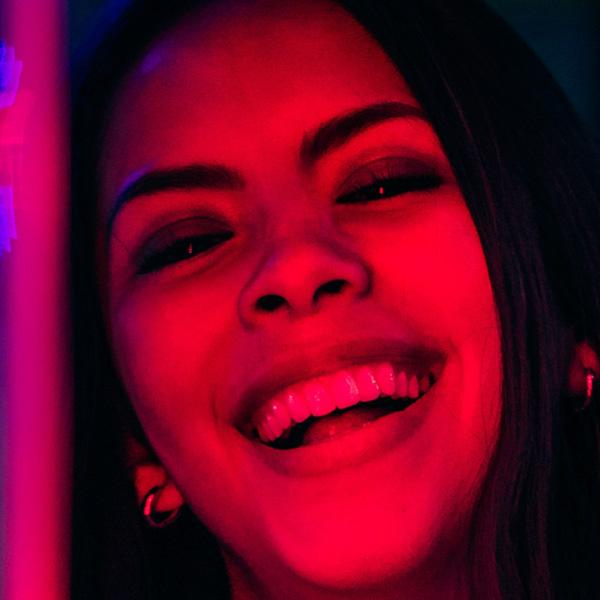Eyes: (119, 204, 243, 289), (326, 147, 451, 215)
